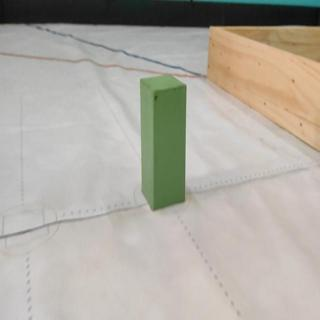greenbox: (137, 70, 189, 212)
